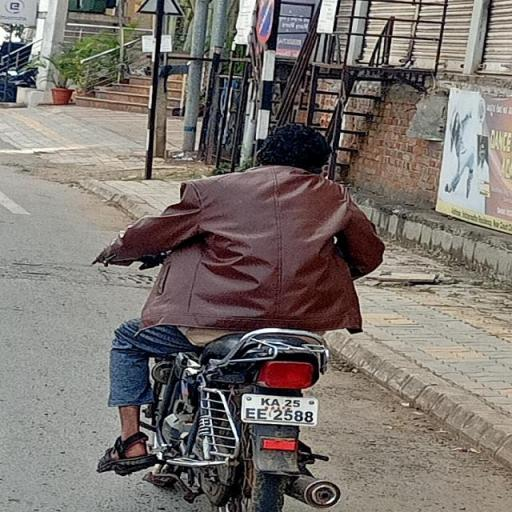bike: (90, 111, 393, 512)
numberplate: (240, 390, 320, 430)
using mobile: (305, 166, 333, 177)
withouthelmet: (259, 120, 333, 172)
